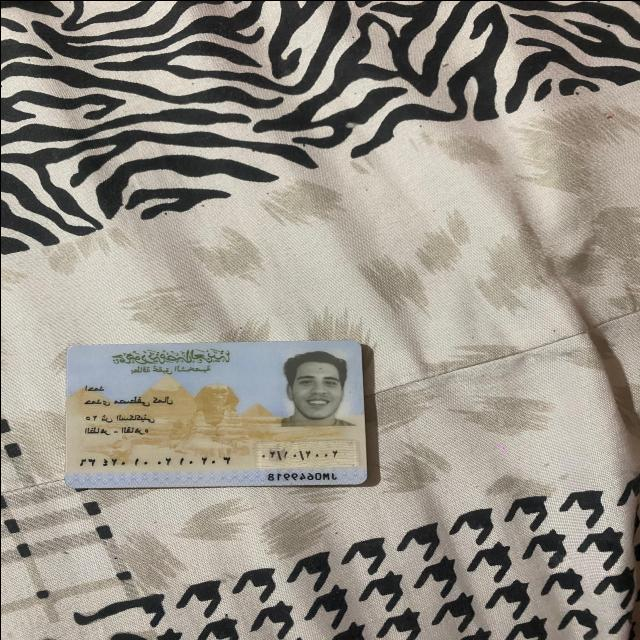id_card: (57, 335, 371, 490)
